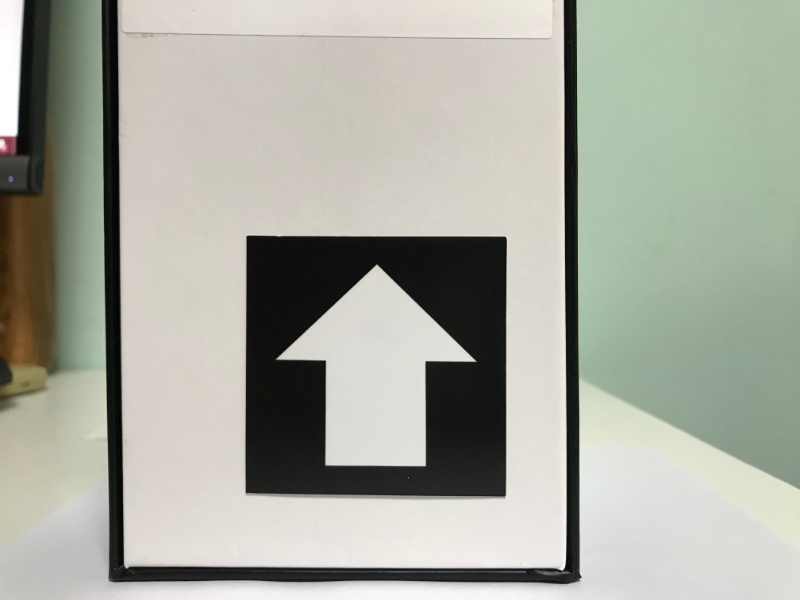UA-1: (249, 240, 505, 492)
